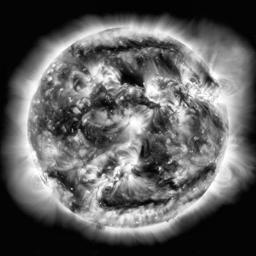solar flares: (119, 110, 147, 135), (186, 87, 225, 102), (84, 167, 107, 192), (120, 145, 134, 186), (94, 69, 124, 87), (145, 81, 166, 102), (76, 76, 97, 92)
sunspots: (107, 193, 168, 207), (157, 56, 182, 81), (53, 112, 82, 133), (100, 45, 176, 53), (138, 145, 158, 175), (188, 113, 201, 154), (83, 127, 109, 147), (118, 67, 139, 88), (56, 174, 78, 192), (94, 93, 117, 110), (135, 96, 160, 110), (200, 165, 215, 179), (153, 110, 164, 128), (201, 72, 214, 86), (162, 172, 175, 186)
